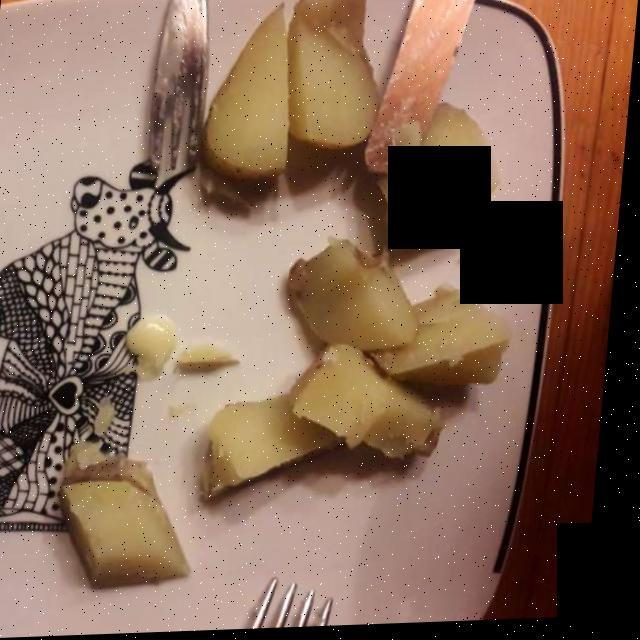potatoes: (65, 24, 513, 596)
